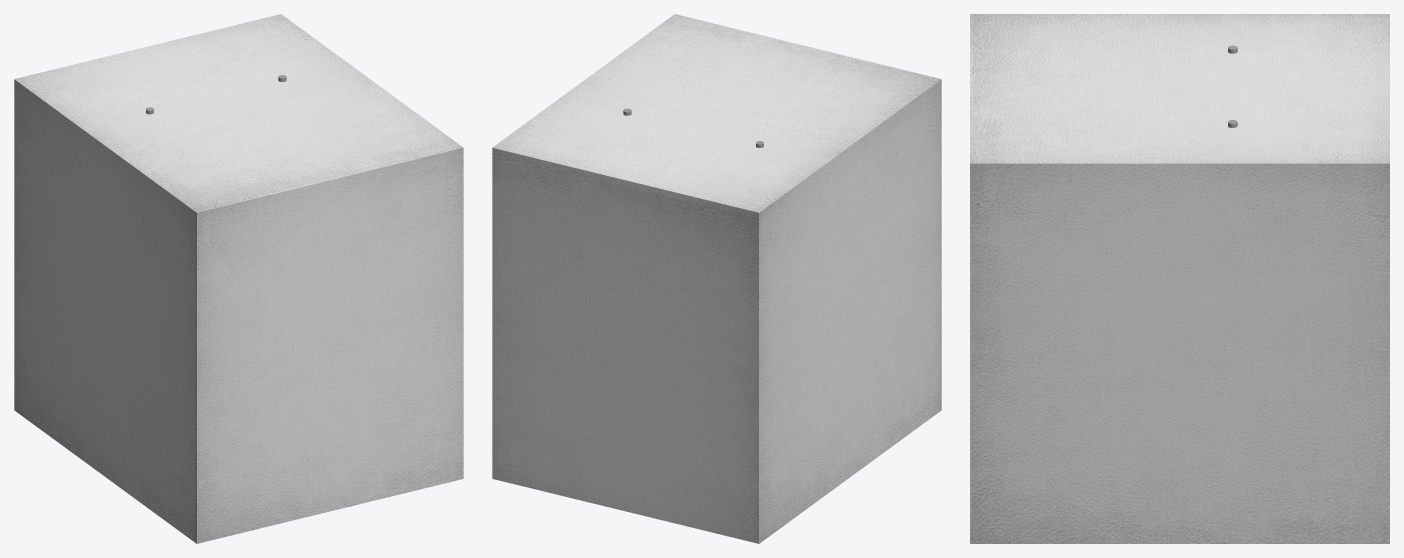
File: cutHeadRoom1.fbx
3 views of the same model, side by side, from view 1: azimuth 30°, elevation 25°; view 2: azimuth 150°, elevation 25°; view 3: azimuth 270°, elevation 25° (orthographic). The views are drawn at different scales.
Parts seen in each view (by area): view 1: room, room1; view 2: room, room1; view 3: room, room1.
Boxes of the visible parts, left/top/right/bottom form: room: left=14, top=14, right=463, bottom=543; room1: left=14, top=15, right=463, bottom=543; room: left=492, top=14, right=941, bottom=543; room1: left=492, top=14, right=941, bottom=542; room: left=970, top=14, right=1389, bottom=543; room1: left=970, top=14, right=1389, bottom=543.
Size of the model in its own units: 27 by 32.35 by 32.
